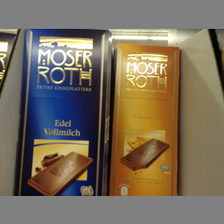chocolate: (14, 29, 109, 196), (110, 42, 180, 196)
